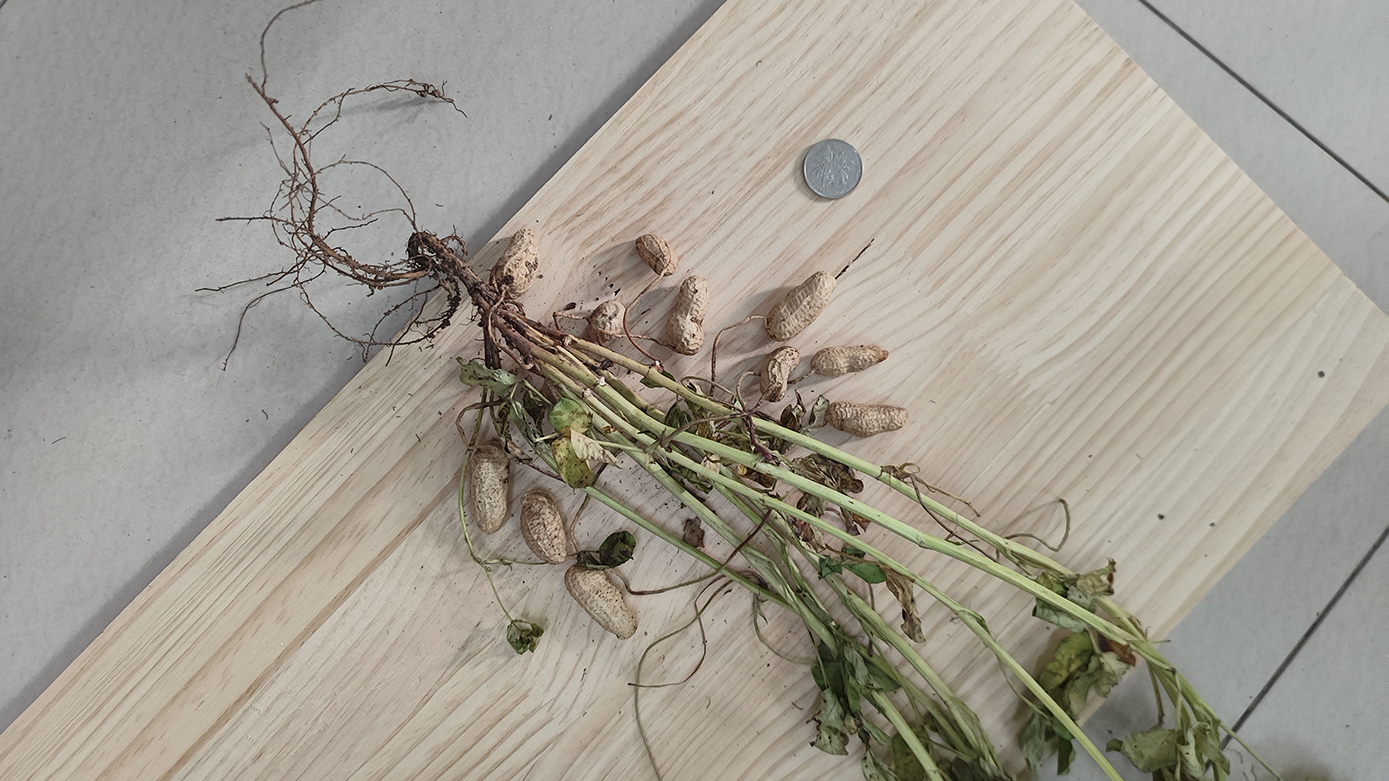h: (562, 562, 638, 638), (764, 272, 835, 341), (519, 490, 570, 566), (465, 449, 510, 531), (490, 228, 543, 297), (665, 276, 709, 354), (808, 343, 890, 379), (825, 401, 907, 437), (760, 345, 801, 401), (635, 232, 679, 279), (585, 301, 628, 343)
